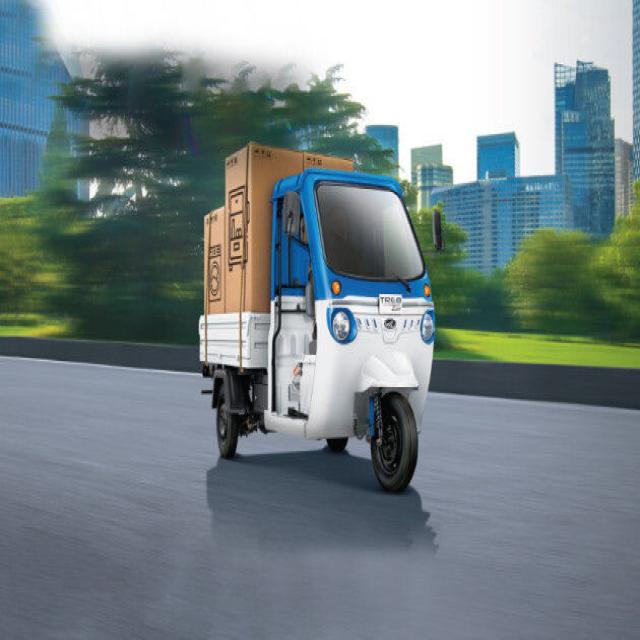autorickshaw: (199, 144, 435, 491)
